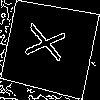X: (24, 23, 76, 65)
